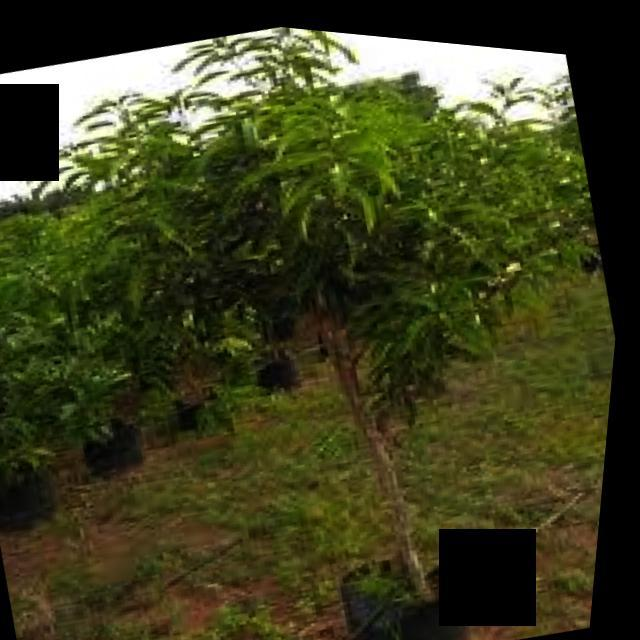Tree: (2, 4, 640, 640)
